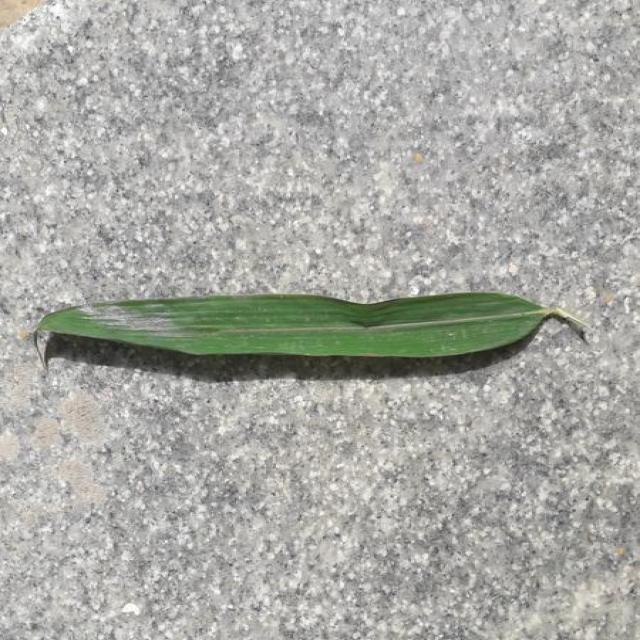Bamboo: (38, 292, 547, 357)
